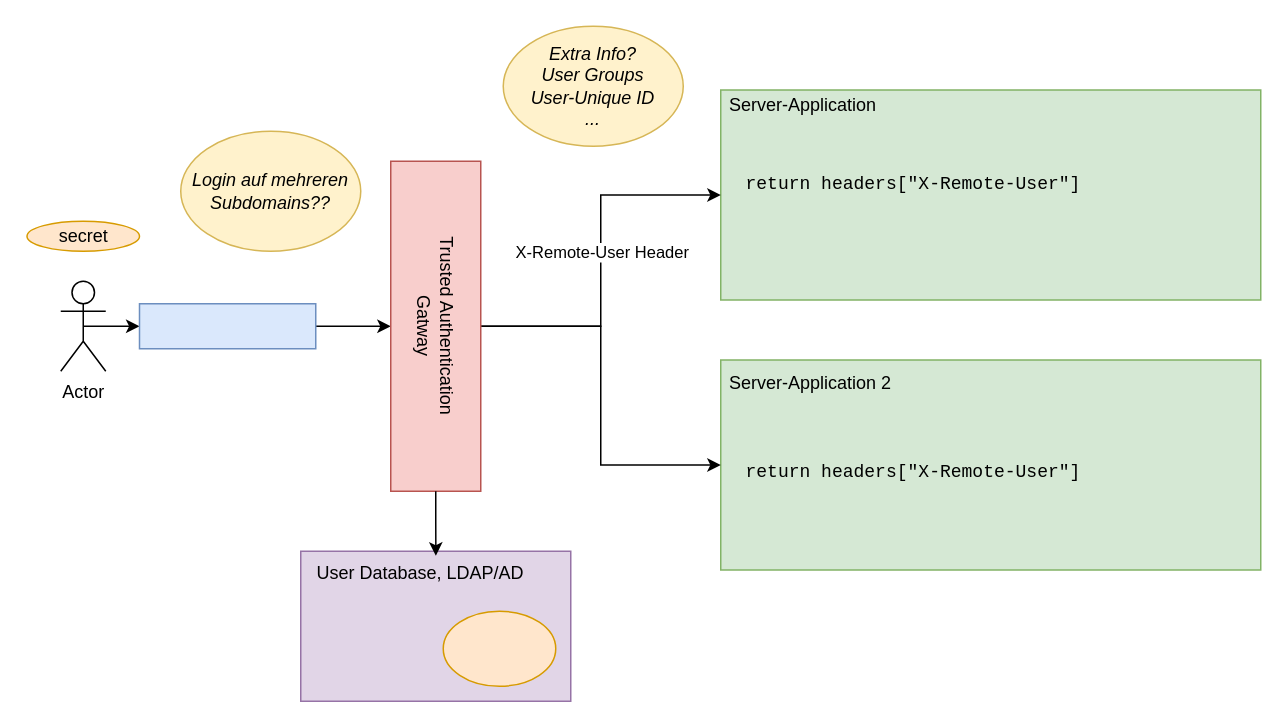
Image size: 1287x728. Some labels were removed from this diagram. The centre of each missing label's shape, as x and y in pixels:
salted/hashed secret: the point at 499,648
TLS / HTTPS: the point at 227,325
